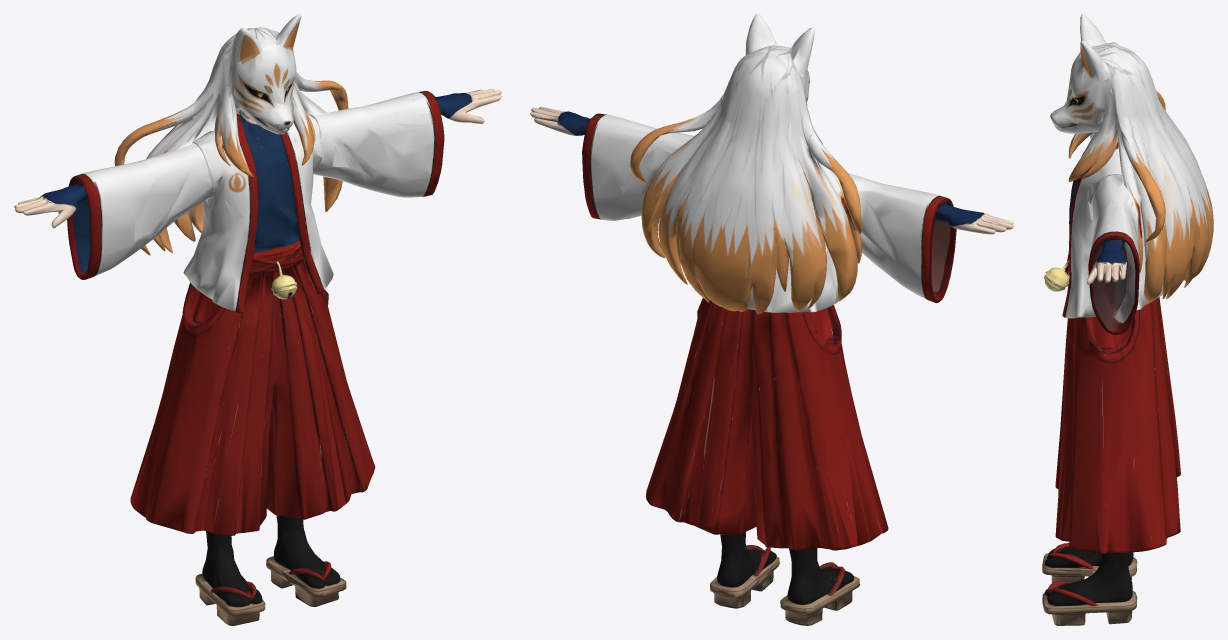
The model's file is kitsune-mesh.glb.
3 views of the same model, side by side, from view 1: azimuth 30°, elevation 25°; view 2: azimuth 150°, elevation 25°; view 3: azimuth 270°, elevation 25° (orthographic).
Parts seen in each view (by area): view 1: Mesh_0; view 2: Mesh_0; view 3: Mesh_0.
Boxes of the visible parts, x1,y1,x2,y2 form: Mesh_0: [14, 14, 501, 625]; Mesh_0: [530, 14, 1013, 625]; Mesh_0: [1042, 14, 1213, 625].
Size of the model in its own units: 1.49 by 1.7 by 0.4618.
1 material, 1 textured.
